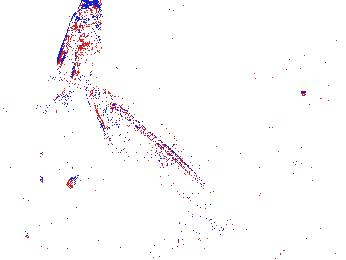X-ray fish: (51, 1, 103, 106)
glassfish: (83, 85, 254, 246)
